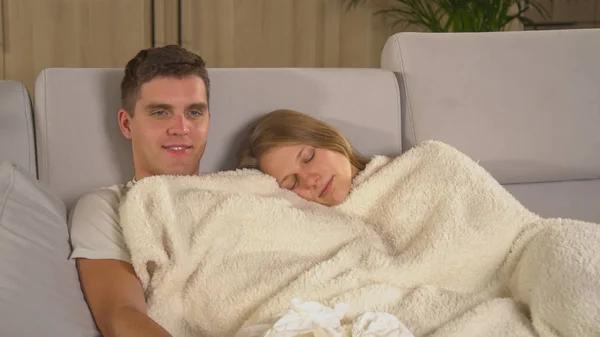blanket: (117, 138, 600, 337)
